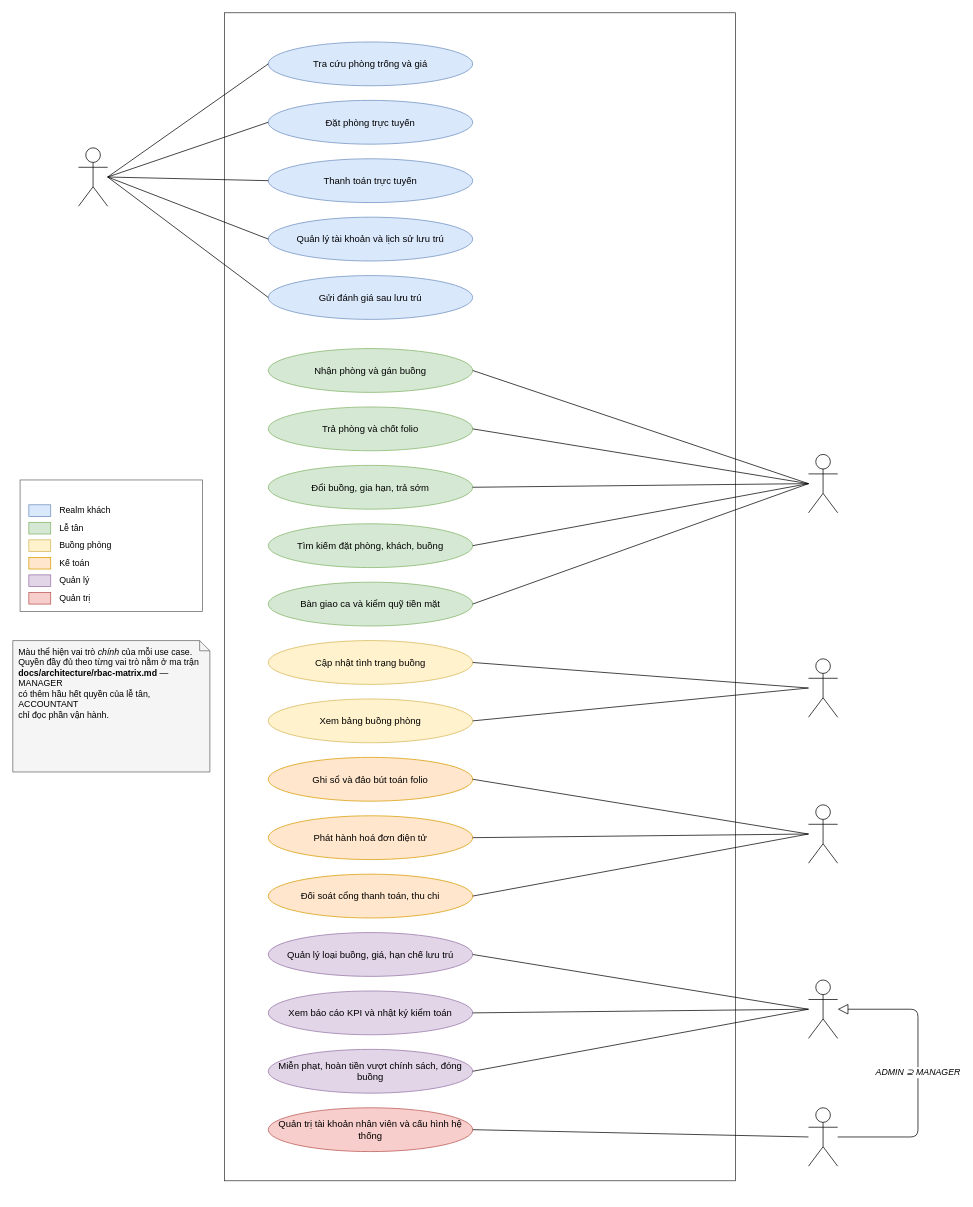
Image size: 973x1207. Some labels were removed from this diagram. The shapes that lost their labels are listed below. From the top down, each one's box as (x1, y1, x2, y2) in pixels, then its label:
(78, 147, 108, 206): Khách (GUEST)
(808, 454, 838, 513): Lễ tân (RECEPTIONIST)
(19, 479, 203, 611): Chú giải — theo vai trò chính
(224, 12, 735, 1181): Hệ thống quản lý khách sạn Mariva
(808, 658, 838, 717): Buồng phòng (HOUSEKEEPING)
(808, 804, 838, 863): Kế toán (ACCOUNTANT)
(808, 979, 838, 1038): Quản lý (MANAGER)
(808, 1107, 838, 1166): Quản trị (ADMIN)
